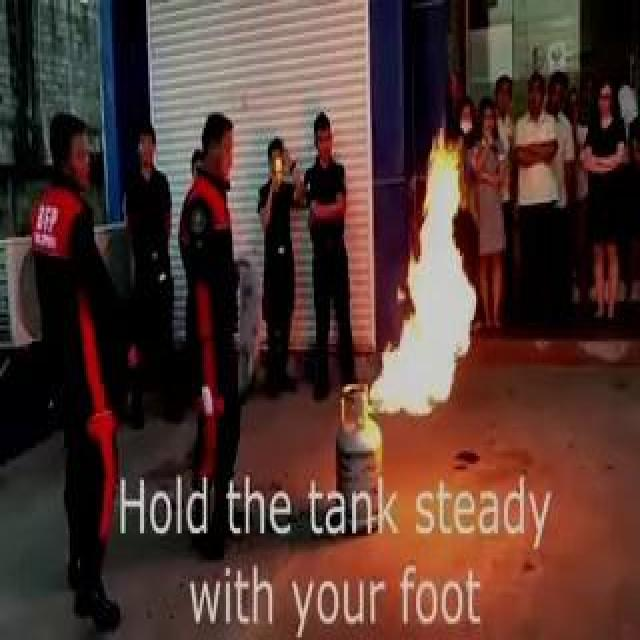Fire: (362, 152, 504, 419)
